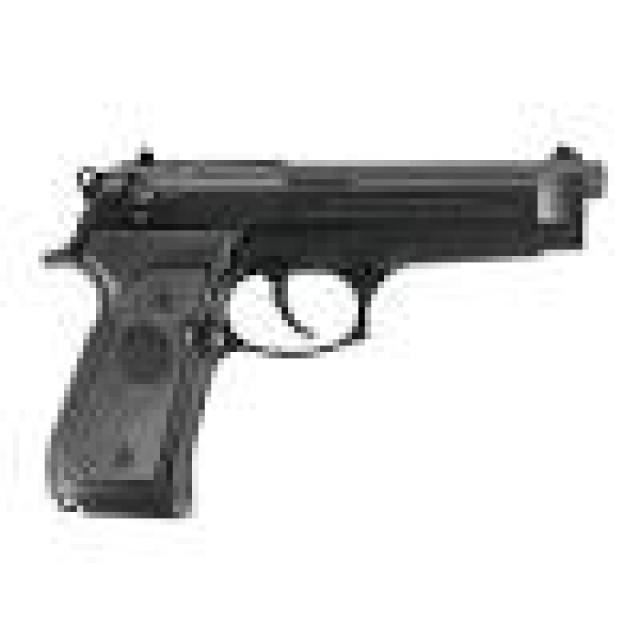Gun: (19, 131, 626, 520)
